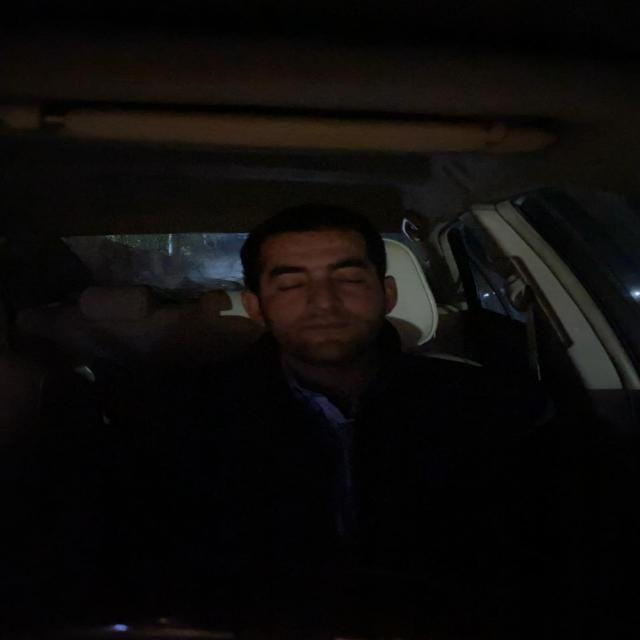drowsy: (235, 207, 406, 367)
